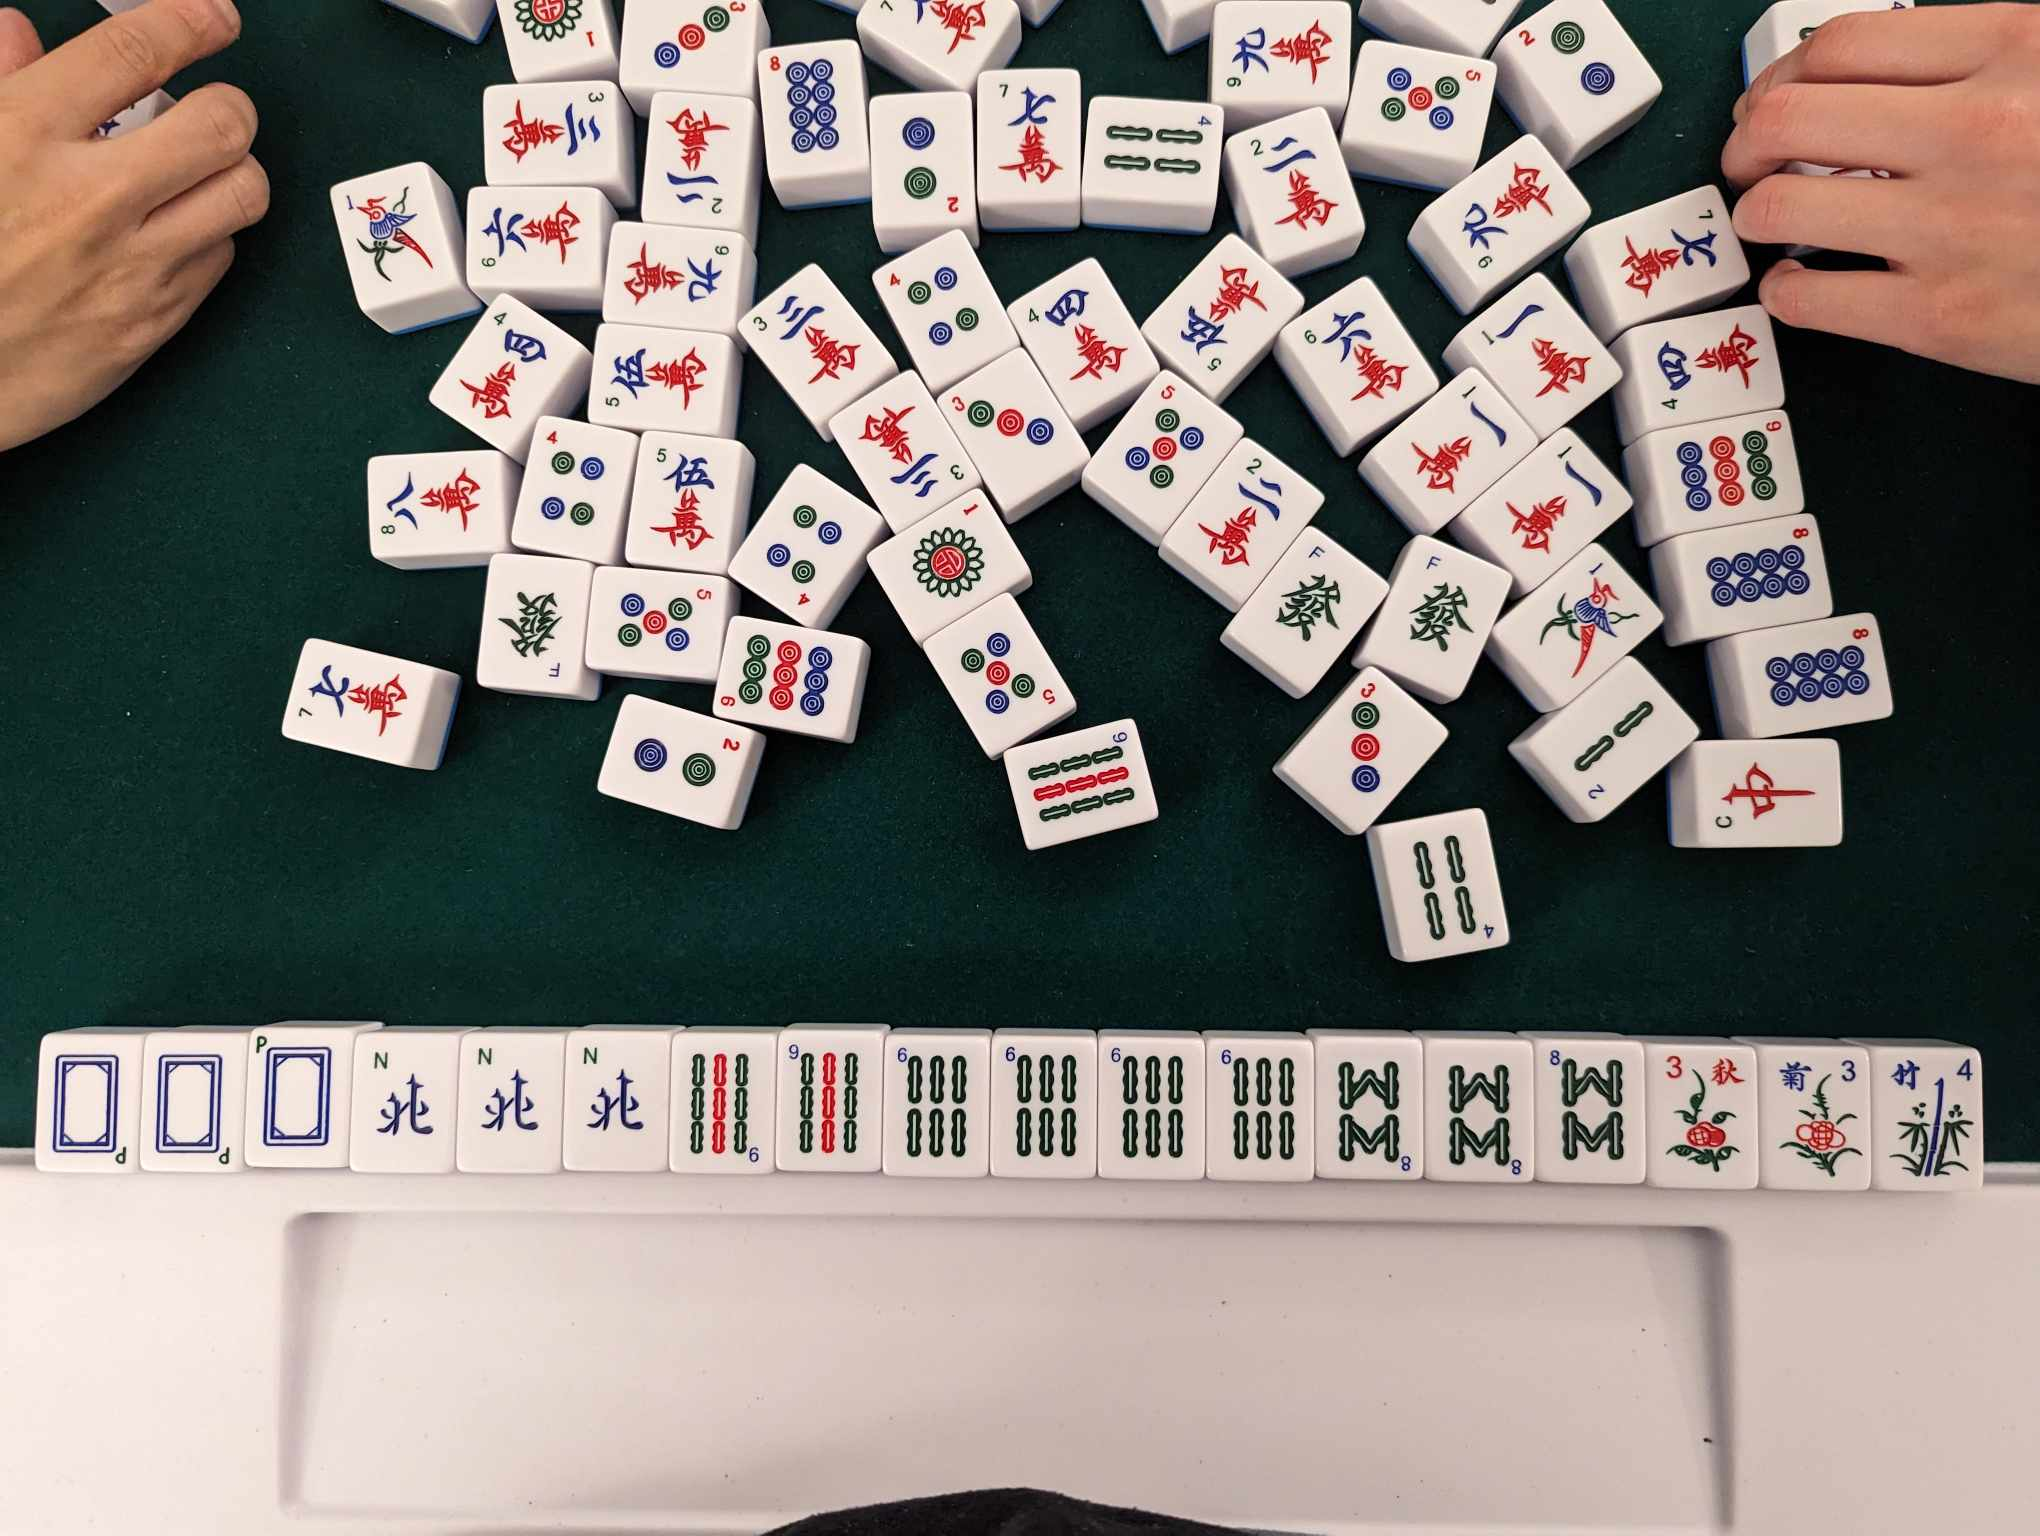bamboo-eight: (1538, 1042, 1642, 1179), (1429, 1042, 1532, 1179), (1318, 1042, 1422, 1176)
bamboo-nine: (671, 1036, 774, 1170), (779, 1034, 881, 1170)
bamboo-six: (887, 1037, 989, 1175), (992, 1042, 1097, 1175), (1209, 1042, 1311, 1176), (1101, 1042, 1203, 1176)
flower-blue_four: (1876, 1047, 1980, 1184)
flower-blue_three: (1763, 1050, 1867, 1186)
flower-red_three: (1651, 1046, 1756, 1184)
honor-blue_dragon: (142, 1034, 247, 1170), (250, 1033, 350, 1165), (47, 1036, 129, 1167)
honor-north_wind: (564, 1034, 669, 1171), (460, 1034, 561, 1171), (355, 1036, 455, 1170)
